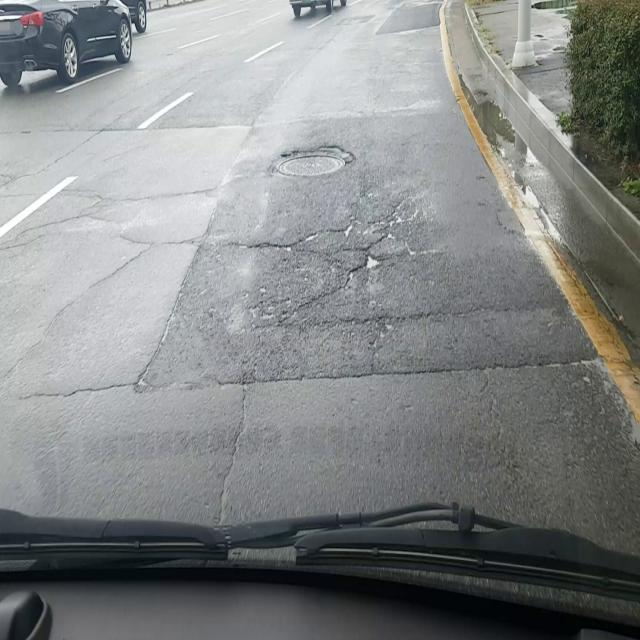Pothole: (272, 143, 357, 179)
